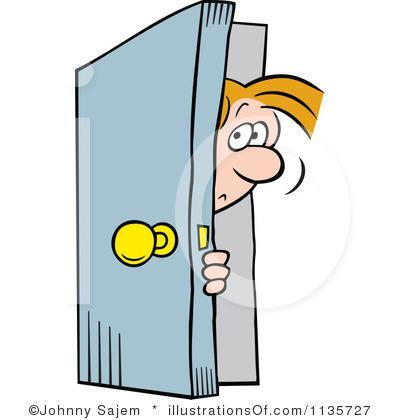person: (200, 69, 330, 297)
